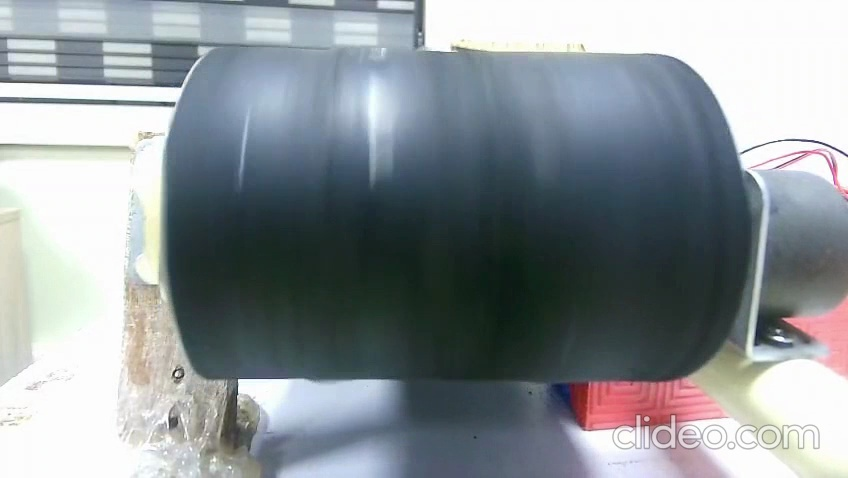tear: (363, 75, 394, 187), (240, 102, 255, 191)
